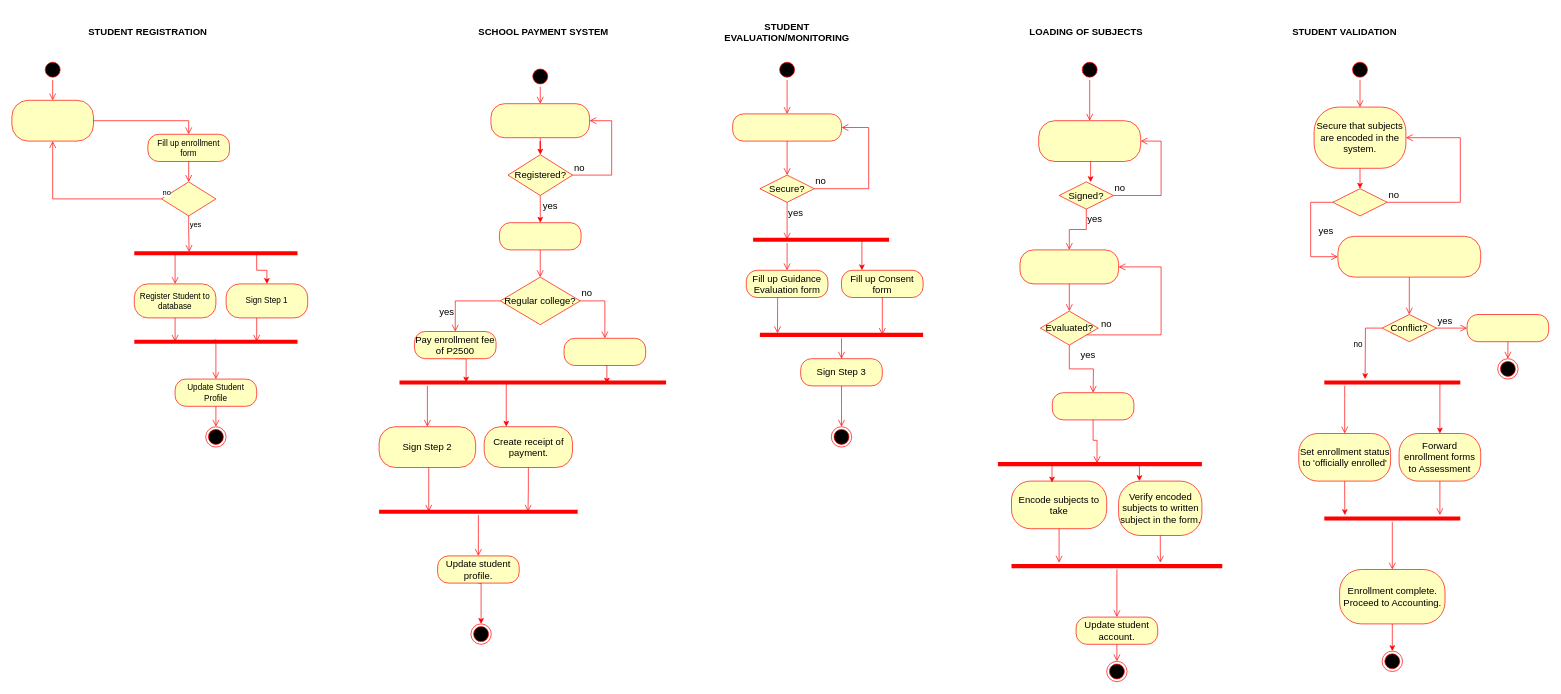
Some shapes in this 1561 by 694 pixel diagram are drawn without their labels. Each missing label, with the centre of its shape:
"Check if the encoded subjects coincide with the subjects written in the form" goes at point 1409,256.
"Check program" goes at point 540,236.
"Encoded?" goes at point 1359,202.
"Evaluate students with the Program heads" goes at point 1069,266.
"Get subjects to take" goes at point 1093,406.
"Pay enrollment fee of P1500" goes at point 604,352.
"Return to division." goes at point 1507,328.
"Secure clear transaction for the previous semester" goes at point 52,120.
"Secure that previous steps are signed." goes at point 787,127.
"Secure that Steps 1-3 were signed." goes at point 1089,141.
"Secure that student was registered" goes at point 540,120.
"Verified?" goes at point 188,198.
